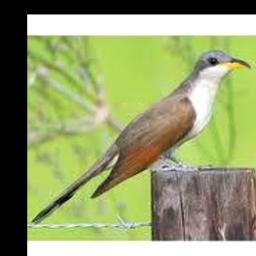Cuckoo: (33, 49, 250, 224)
